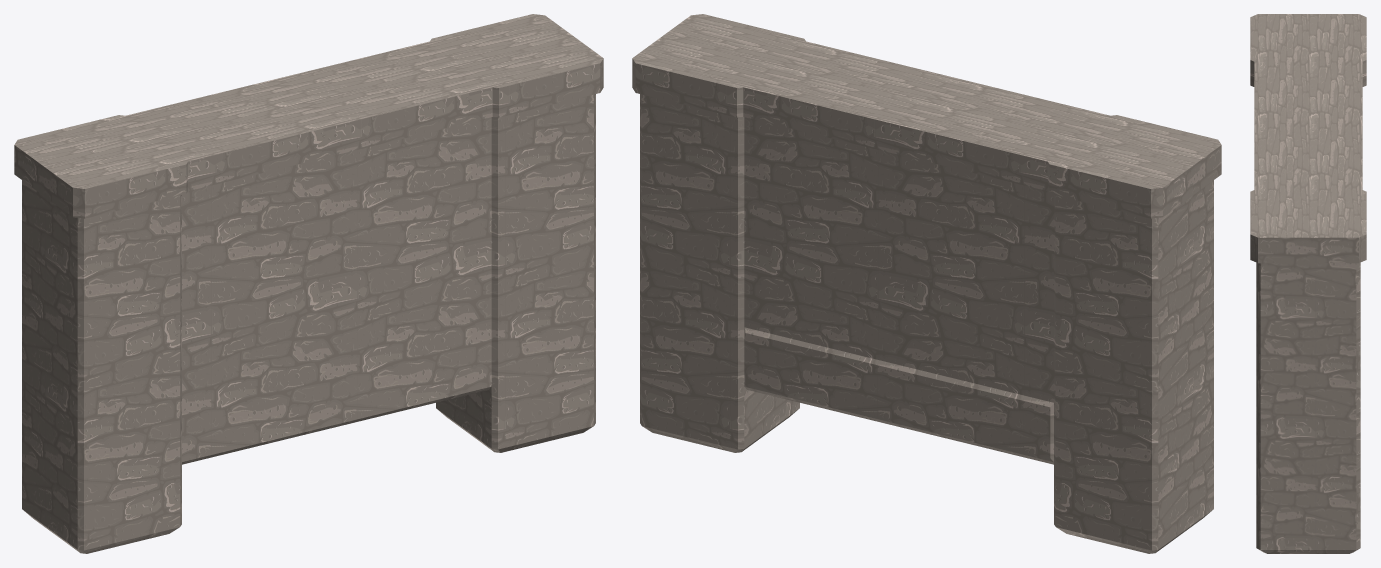
File: OudsideBoard.FBX
3 views of the same model, side by side, from view 1: azimuth 30°, elevation 25°; view 2: azimuth 150°, elevation 25°; view 3: azimuth 270°, elevation 25° (orthographic). The views are drawn at different scales.
Parts seen in each view (by area): view 1: Box002; view 2: Box002; view 3: Box002.
Part boxes in pixels (x1,y1,x2,y2): Box002: (14, 14, 603, 553); Box002: (632, 14, 1221, 553); Box002: (1250, 14, 1366, 553).
Size of the model in its own units: 154 by 104 by 33.99.
Materials: 1 (1 with a texture image).
